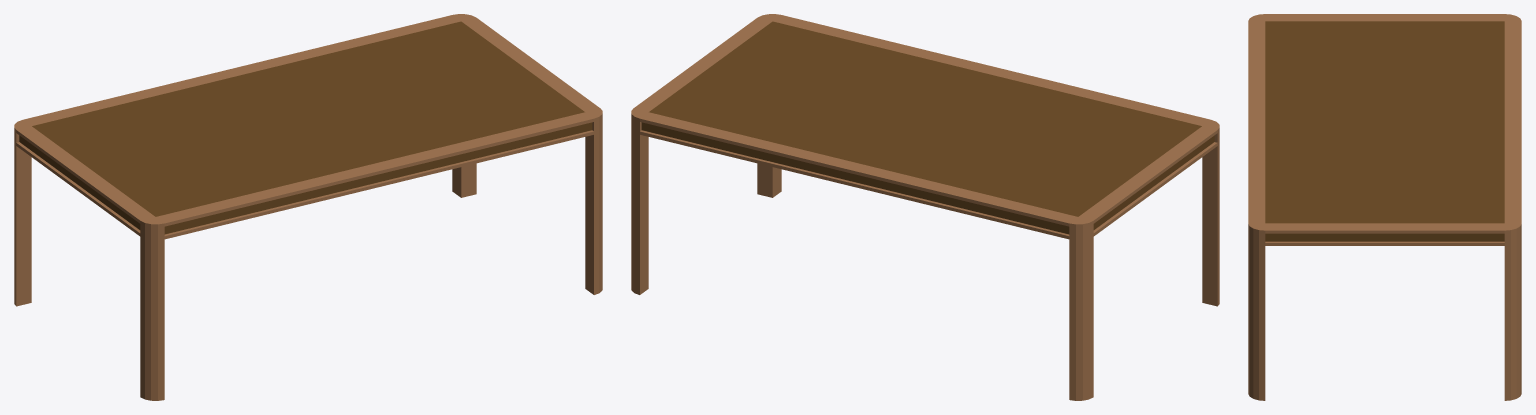
Rendered from Table.glb.
3 renders of one model, left to right at view 1: azimuth 30°, elevation 25°; view 2: azimuth 150°, elevation 25°; view 3: azimuth 270°, elevation 25°, orthographic. The views are drawn at different scales.
Visible parts, largest first — view 1: Cube; view 2: Cube; view 3: Cube.
Boxes of the visible parts, x1,y1,x2,y2 form: Cube: [14, 14, 602, 400]; Cube: [631, 14, 1219, 400]; Cube: [1248, 14, 1521, 400].
Size of the model in its own units: 3 by 1.1 by 1.6.
